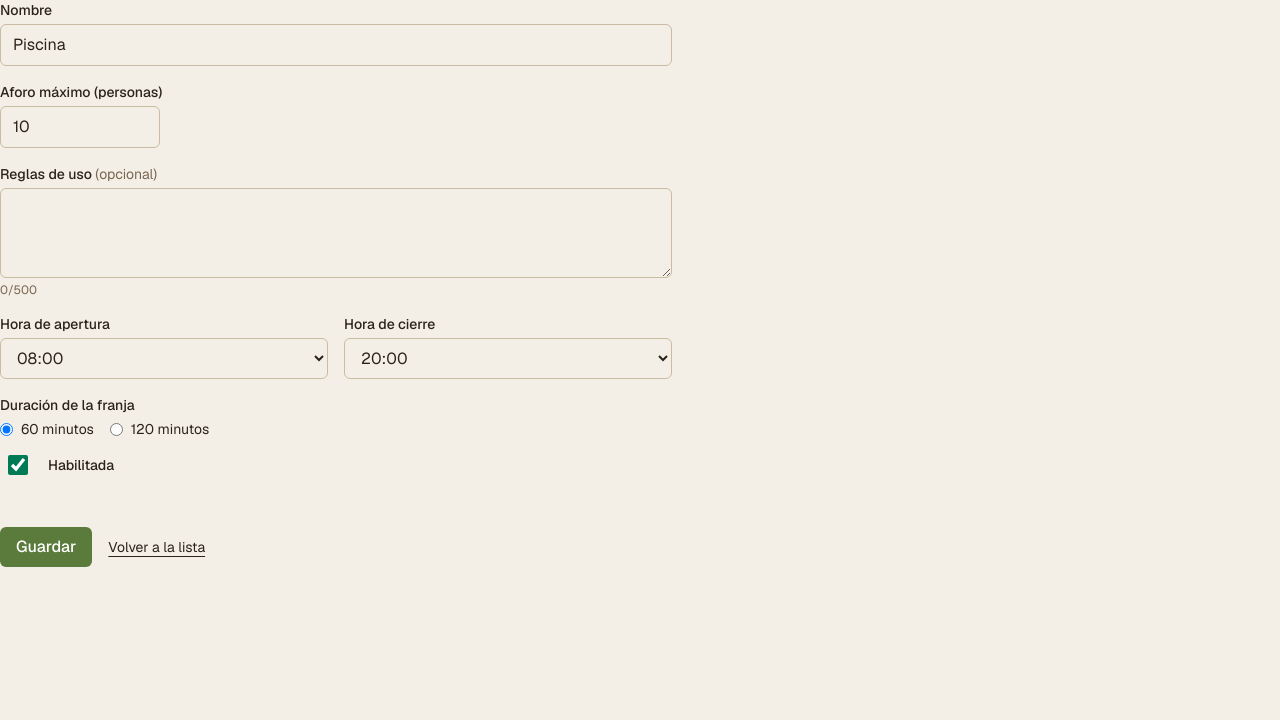
H9. Administración de áreas comunes, horarios y bloqueos › AC4: Cancelar en la confirmación no aplica el cambio
Click the switch at coordinates (18, 465), box [0, 455, 36, 475]
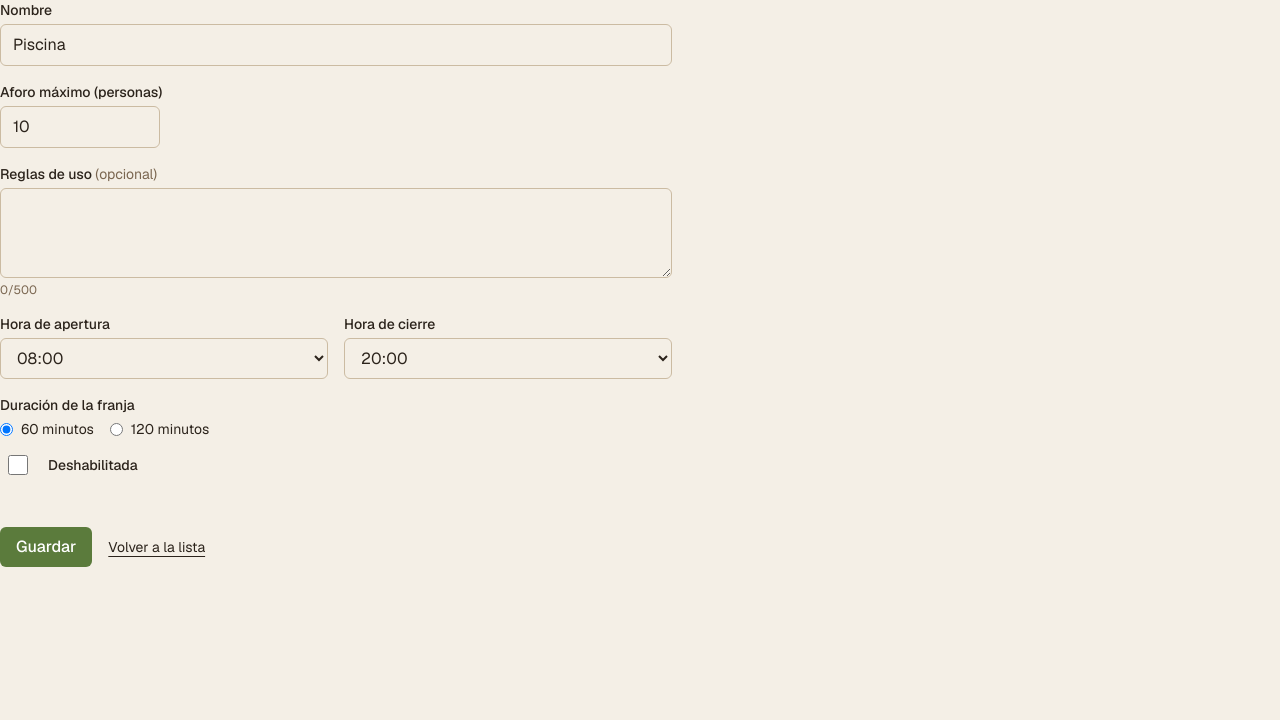
Click the button "Guardar" at coordinates (46, 547), box [0, 527, 92, 567]
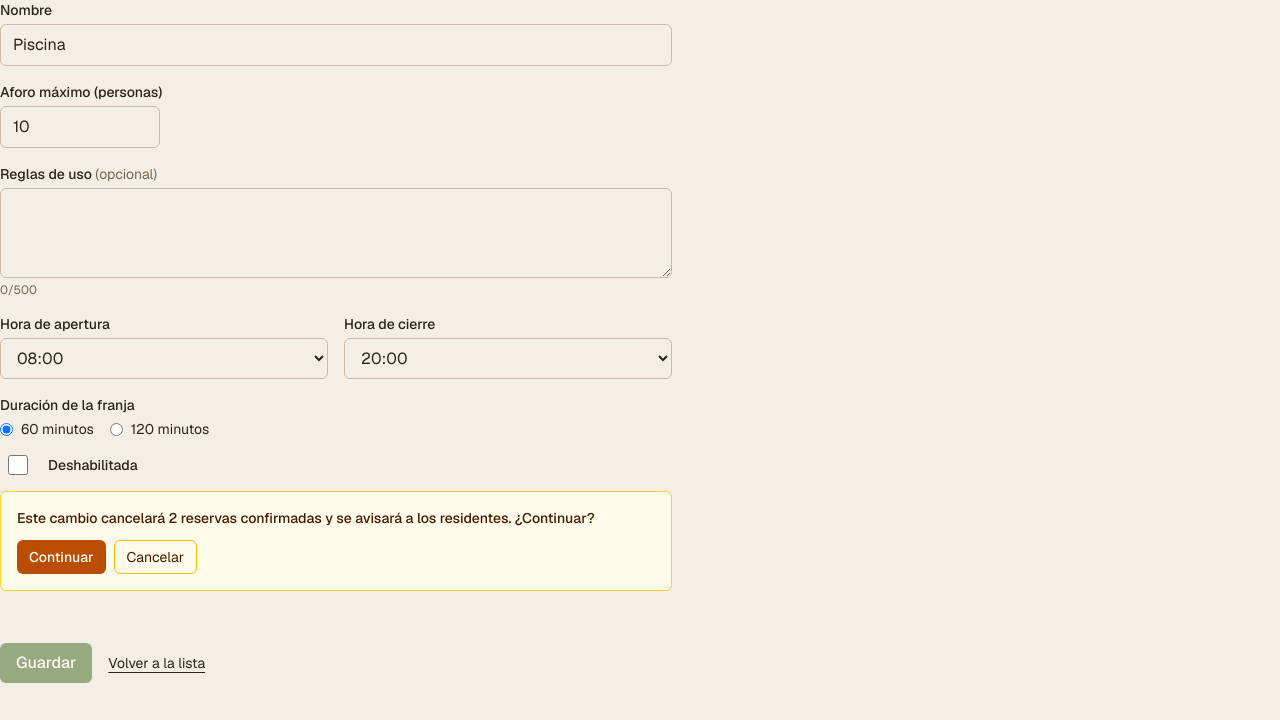
Click the button "Cancelar" at coordinates (155, 557), box [114, 540, 197, 574]
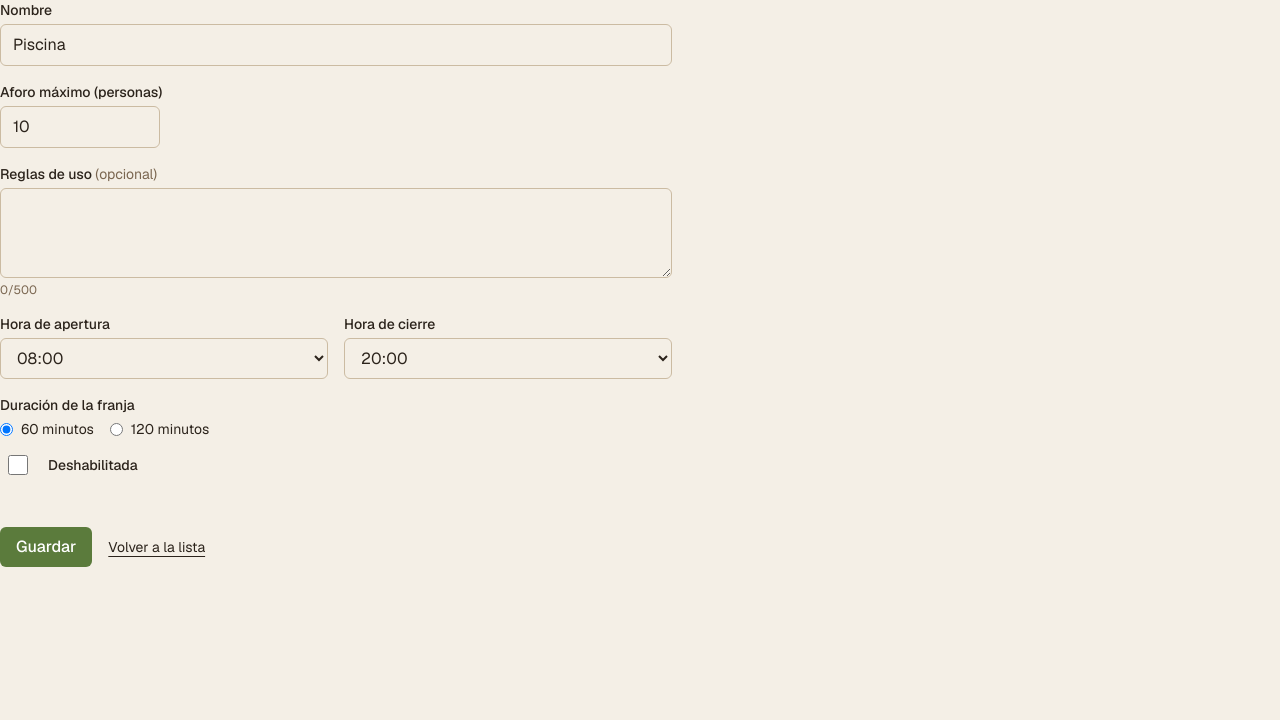
Now the dialog is gone
